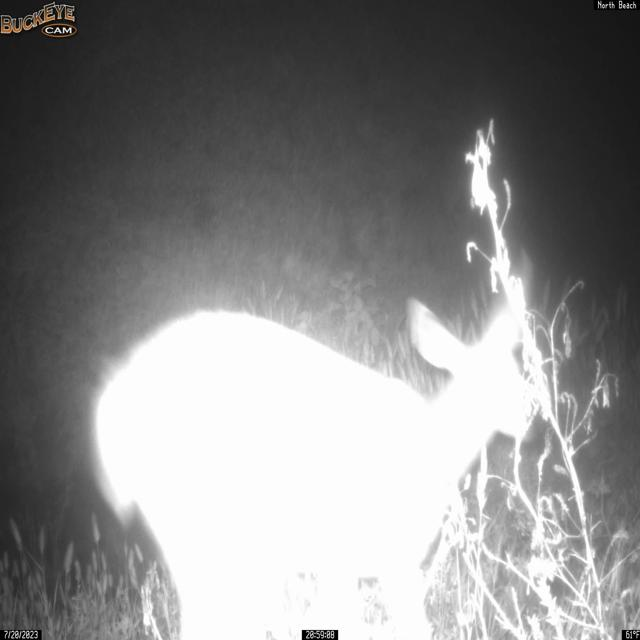deer: (89, 286, 538, 640)
